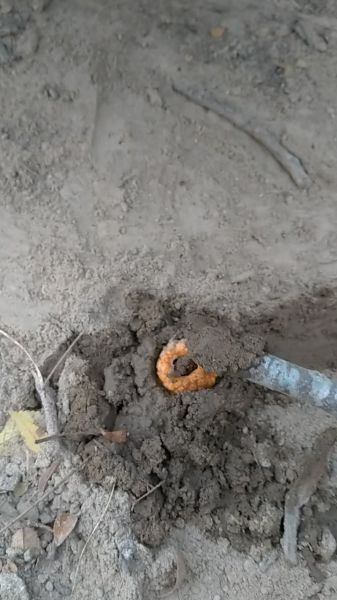eggs: (152, 329, 226, 400)
